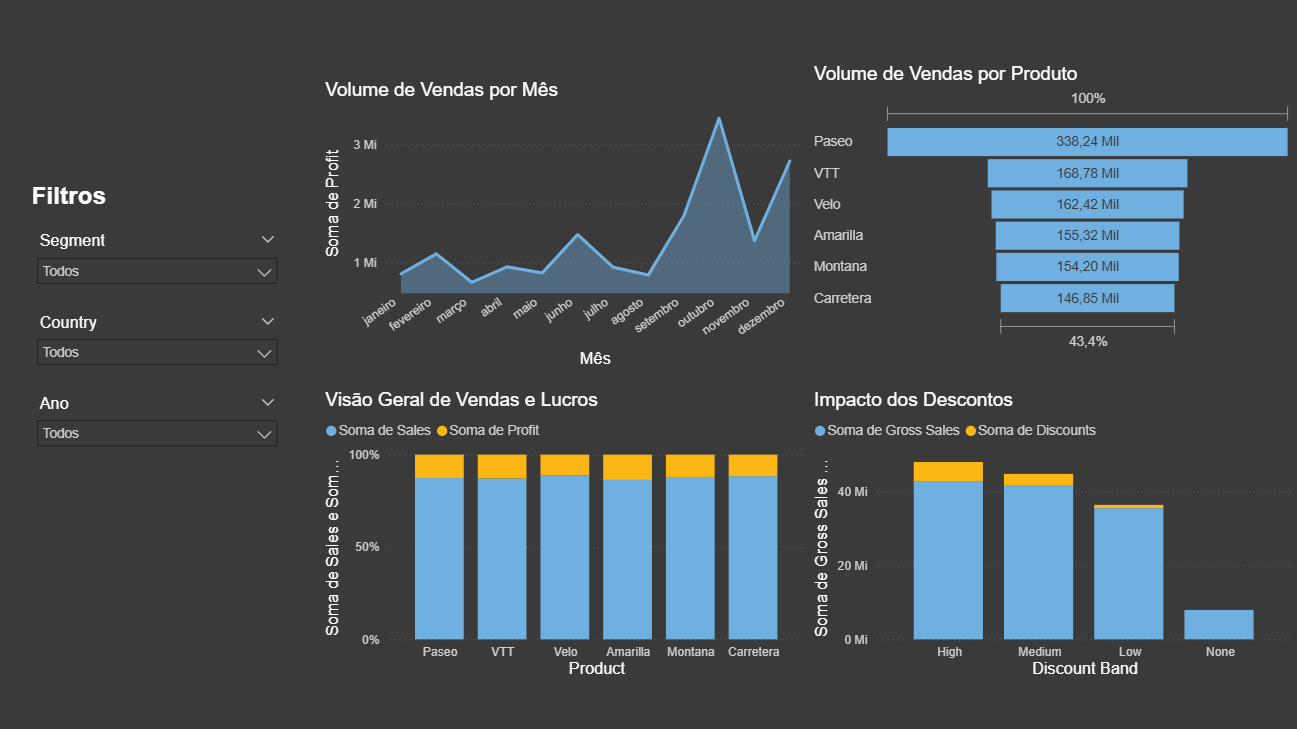

This screenshot's page, from the dashboard's own definition file:
{"tool":"powerbi","page":{"name":"Página 1","canvas":[1280,720],"ordinal":0},"visuals":[{"type":"slicer","fields":{"Values":["financials.Country"]},"box":[32,304,256,80],"z":0,"group":"g1"},{"type":"funnel","title":"Volume de Vendas por Produto","fields":{"Category":["financials.Product"],"Y":["Sum(financials.Units Sold)"]},"box":[800,64,480,288],"z":1000},{"type":"slicer","fields":{"Values":["financials.Segment"]},"box":[32,224,256,80],"z":1000,"group":"g1"},{"type":"areaChart","title":"Volume de Vendas por Mês","fields":{"Category":["financials.Date.Variation.Hierarquia de datas.Mês"],"Y":["Sum(financials.Profit)"]},"box":[320,80,480,288],"z":2000},{"type":"slicer","fields":{"Values":["financials.Date.Variation.Hierarquia de datas.Ano"]},"box":[32,384,256,80],"z":2000,"group":"g1"},{"type":"textbox","box":[32,176,256,48],"z":3000,"group":"g1"},{"type":"shape","box":[0,0,288,176],"z":4000,"group":"g1"},{"type":"columnChart","title":"Impacto dos Descontos","fields":{"Category":["financials.Discount Band"],"Y":["Sum(financials.Gross Sales)","Sum(financials.Discounts)"]},"box":[800,384,480,288],"z":5000},{"type":"shape","box":[0,464,288,256],"z":5000,"group":"g1"},{"type":"hundredPercentStackedColumnChart","title":"Visão Geral de Vendas e Lucros","fields":{"Category":["financials.Product"],"Y":["Sum(financials.Sales)","Sum(financials.Profit)"]},"box":[320,384,480,288],"z":6000},{"type":"group","id":"g1","title":"Grupo 1","box":[0,0,288,720],"z":6006}]}

Visuals, with their boxes in screenshot pixels (x1, y1, x2, y2), scaled from the page's 1280x720 canvas onto the 1297x729 screenshot:
slicer - financials.Country: rect(32, 308, 292, 389)
"Volume de Vendas por Produto" funnel: rect(811, 65, 1296, 356)
slicer - financials.Segment: rect(32, 227, 292, 308)
"Volume de Vendas por Mês" areaChart: rect(324, 81, 811, 373)
slicer - financials.Date.Variation.Hierarquia de datas.Ano: rect(32, 389, 292, 470)
textbox: rect(32, 178, 292, 227)
shape: rect(0, 0, 292, 178)
"Impacto dos Descontos" columnChart: rect(811, 389, 1296, 680)
shape: rect(0, 470, 292, 728)
"Visão Geral de Vendas e Lucros" hundredPercentStackedColumnChart: rect(324, 389, 811, 680)
"Grupo 1" group: rect(0, 0, 292, 728)
